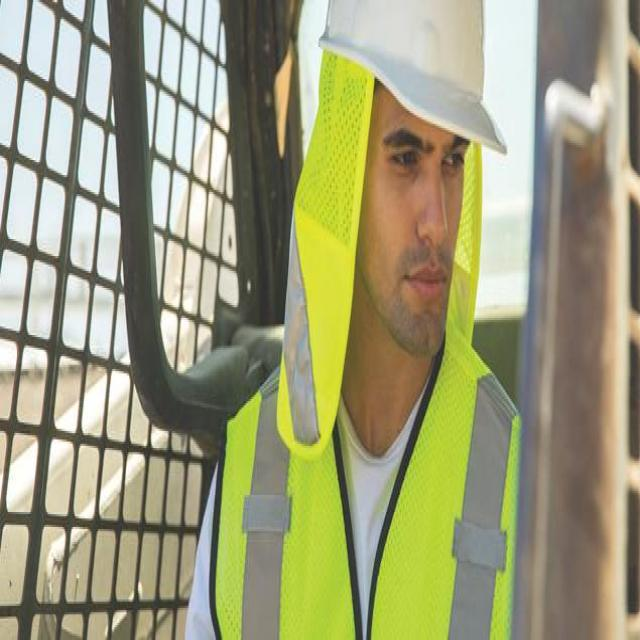Reflective-Jacket: (207, 322, 529, 638)
Safety-Helmet: (315, 0, 509, 166)
